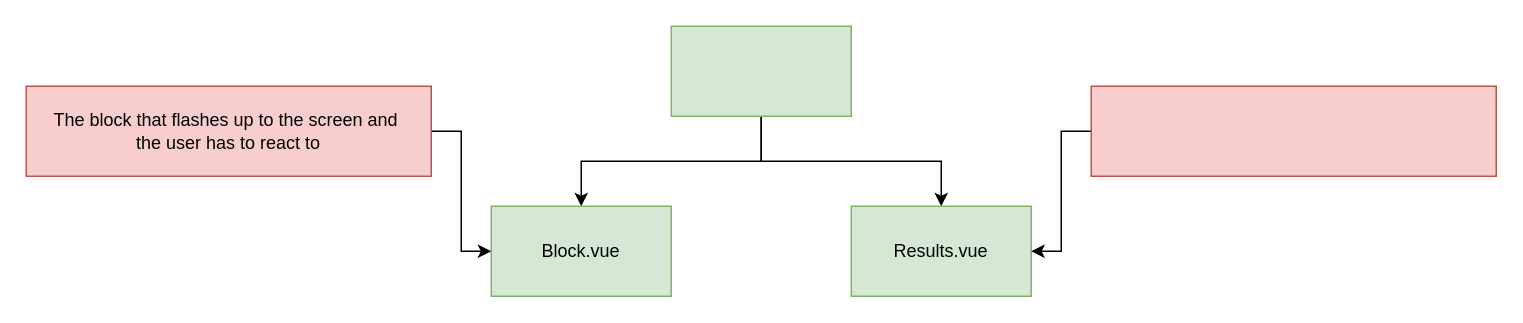
The diagram is 1523 pixels wide and 323 high, and some of its shapes have lost their labels. The shapes that lost their labels are listed below. From the top down, each one's box as (x1, y1, x2, y2) in pixels, then its label:
(670, 25, 851, 116): App.vue
(1090, 85, 1496, 176): Tells the result of the users reaction to the flashing box
